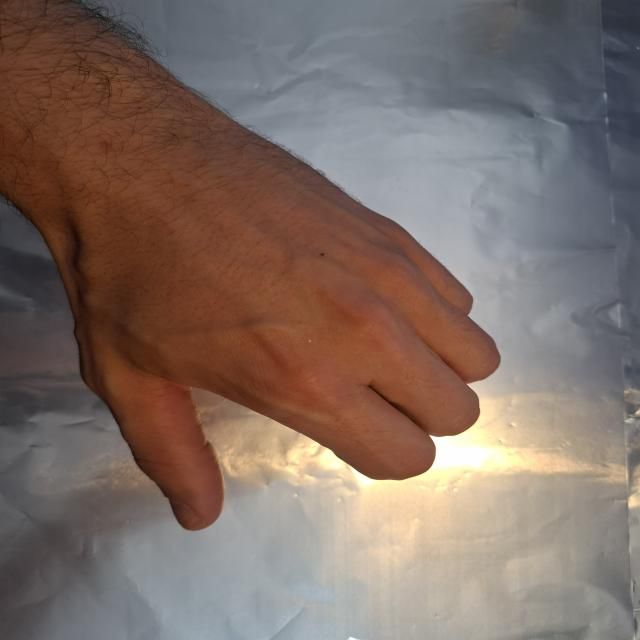glove_off: (20, 141, 504, 532)
